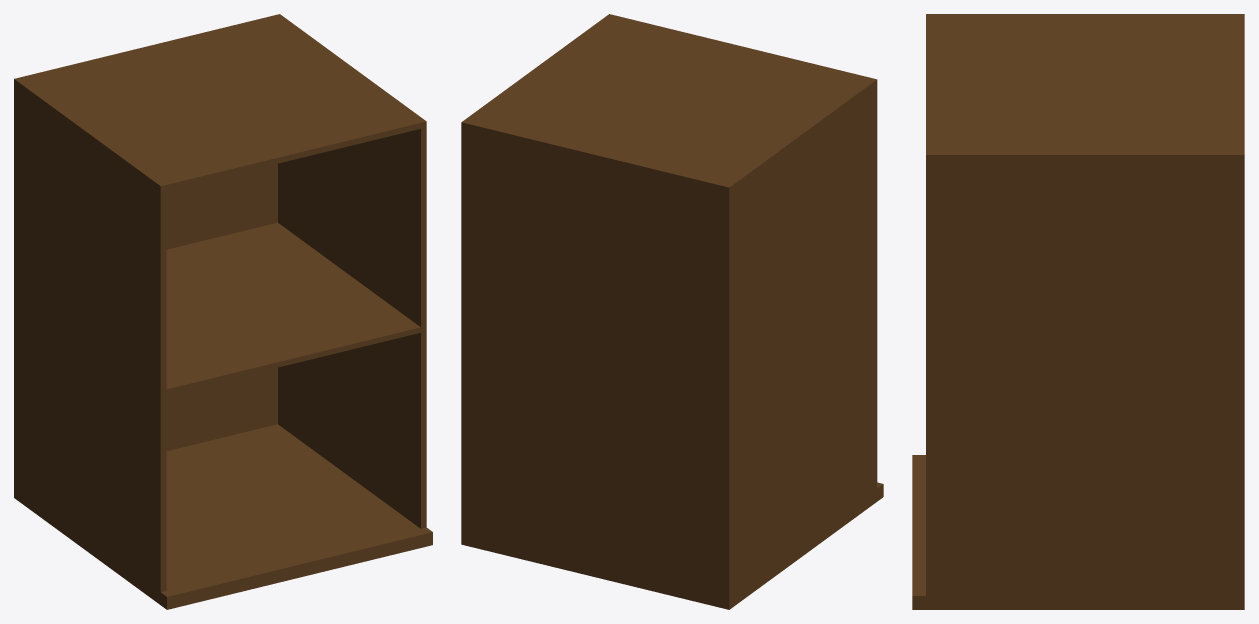
Rendered from locker2.fbx.
3 views of the same model, side by side, from view 1: azimuth 30°, elevation 25°; view 2: azimuth 150°, elevation 25°; view 3: azimuth 270°, elevation 25° (orthographic). The views are drawn at different scales.
Parts seen in each view (by area): view 1: Cube.011; view 2: Cube.011; view 3: Cube.011.
Boxes of the visible parts, x1,y1,x2,y2 form: Cube.011: (14, 14, 432, 609); Cube.011: (461, 14, 883, 609); Cube.011: (912, 14, 1244, 609).
Bounding box in the file's own units: 66.3 × 99.86 × 66.11.
